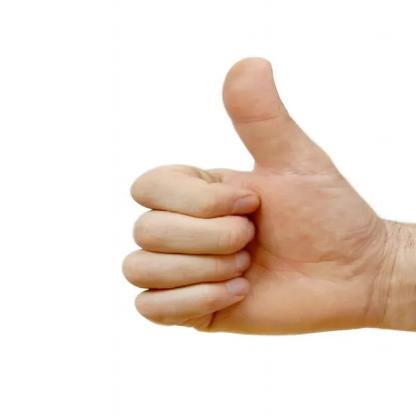thumb_up: (113, 54, 385, 338)
